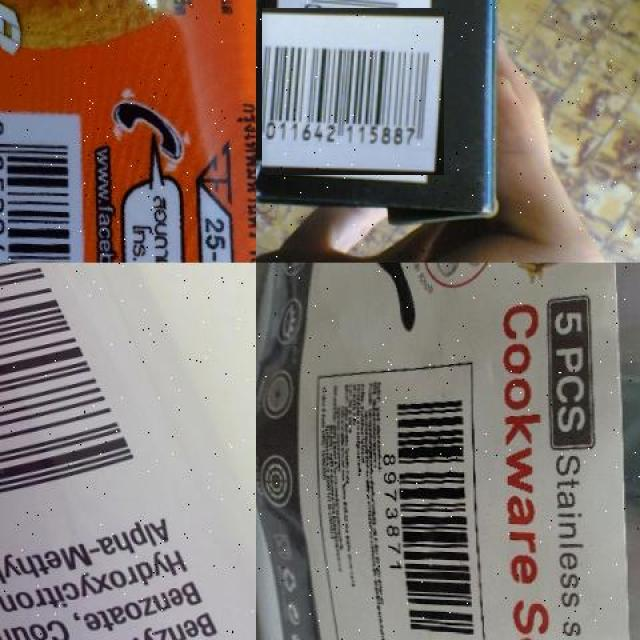Barcode: (0, 263, 163, 545), (265, 4, 440, 179), (380, 377, 476, 640), (0, 110, 85, 263)
